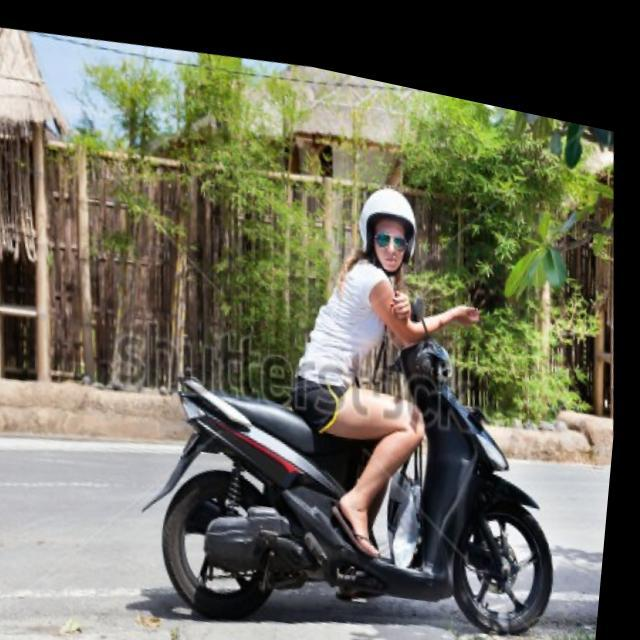Helmet: (352, 182, 425, 278)
